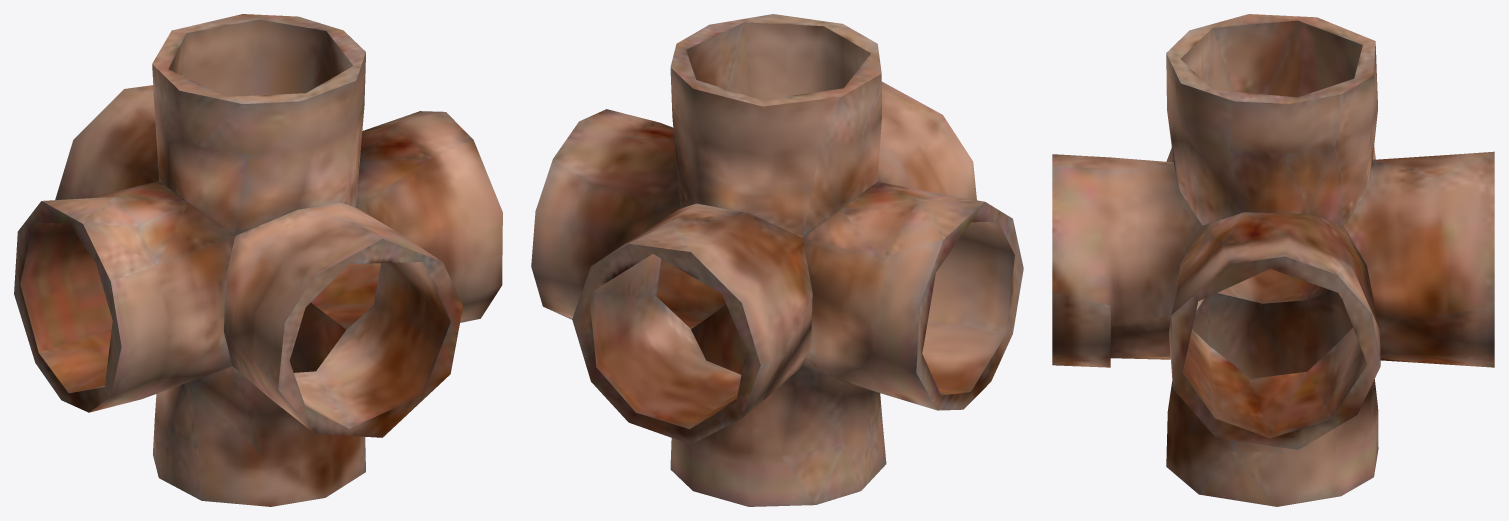
File: small_copper_pipe_17.glb
The picture shows the model from 3 angles, left to right: view 1: azimuth 30°, elevation 25°; view 2: azimuth 150°, elevation 25°; view 3: azimuth 270°, elevation 25°; orthographic projection.
Visible parts, largest first — view 1: small_copper_pipe_17; view 2: small_copper_pipe_17; view 3: small_copper_pipe_17.
Part boxes in pixels (x1,y1,x2,y2): small_copper_pipe_17: [14, 14, 502, 506]; small_copper_pipe_17: [531, 14, 1023, 506]; small_copper_pipe_17: [1052, 14, 1494, 506].
Size of what is drawn, in the model's own units: 0.0446 by 0.0446 by 0.0444.
Materials: 1 (1 with a texture image).
